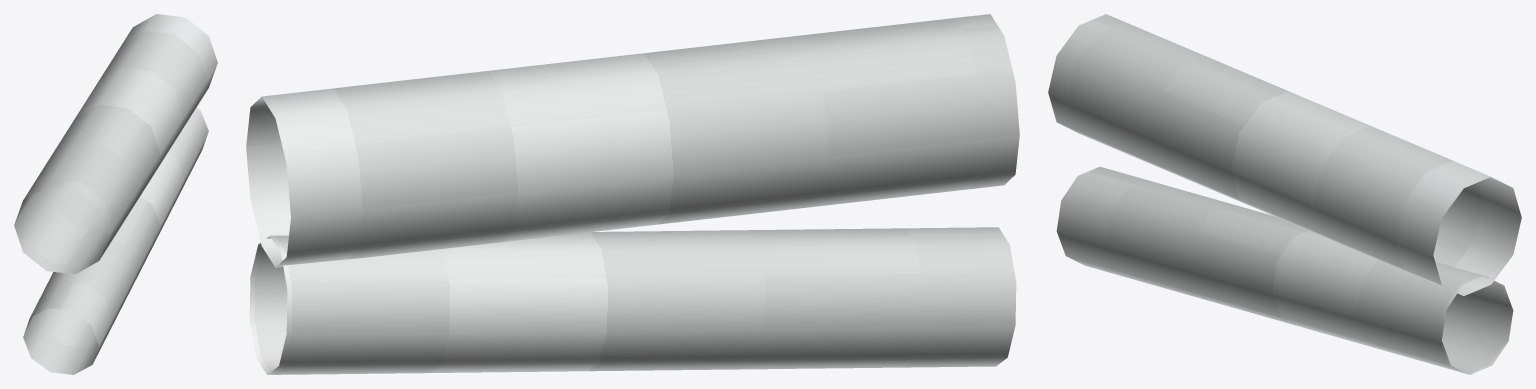
File: trusssignalarm_diagonal8_c10.obj
The picture shows the model from 3 angles, left to right: view 1: azimuth 30°, elevation 25°; view 2: azimuth 150°, elevation 25°; view 3: azimuth 270°, elevation 25°; orthographic projection. The views are drawn at different scales.
Parts seen in each view (by area): view 1: trusssignalarm_diagonal8_c10; view 2: trusssignalarm_diagonal8_c10; view 3: trusssignalarm_diagonal8_c10.
Boxes of the visible parts, x1=… form: trusssignalarm_diagonal8_c10: x1=14, y1=14, x2=217, y2=374; trusssignalarm_diagonal8_c10: x1=246, y1=14, x2=1019, y2=374; trusssignalarm_diagonal8_c10: x1=1048, y1=14, x2=1521, y2=374.
Bounding box in the file's own units: 1.23 × 0.6865 × 1.23.
